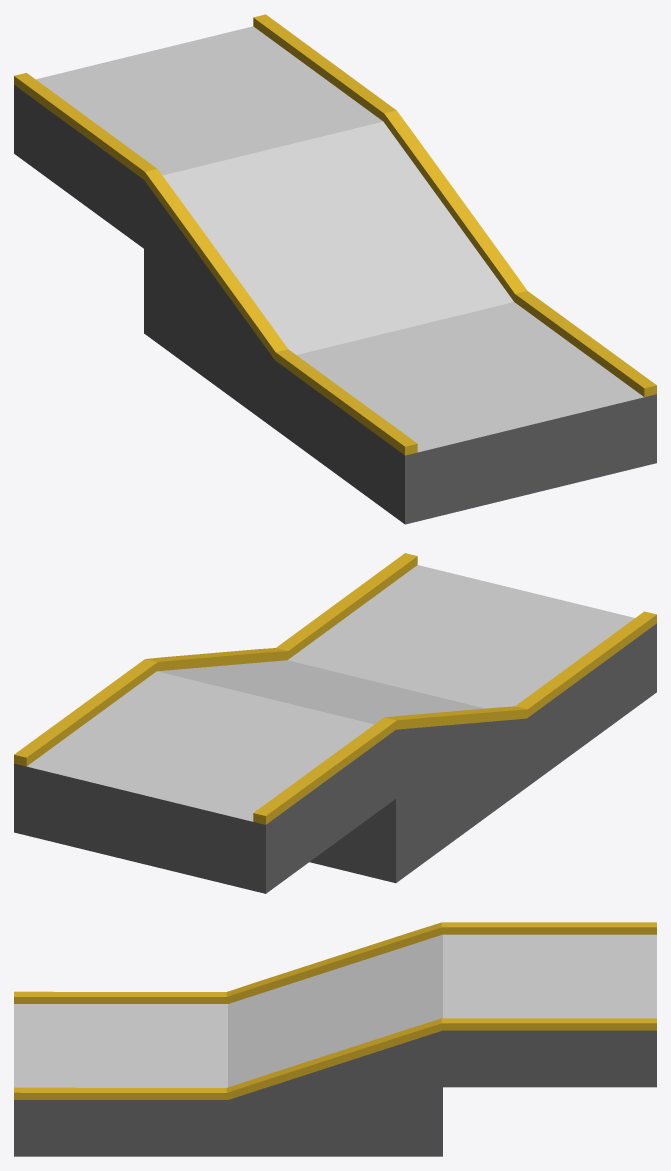
File: Platform_StraightUp.fbx
The picture shows the model from 3 angles, top to bottom: view 1: azimuth 30°, elevation 25°; view 2: azimuth 150°, elevation 25°; view 3: azimuth 270°, elevation 25°; orthographic projection. The views are drawn at different scales.
Parts seen in each view (by area): view 1: Platform_StraightUp; view 2: Platform_StraightUp; view 3: Platform_StraightUp.
Part boxes in pixels (x1,y1,x2,y2): Platform_StraightUp: (14, 14, 656, 524); Platform_StraightUp: (14, 553, 656, 893); Platform_StraightUp: (14, 922, 656, 1156).
Size of the model in its own units: 1192 by 735 by 3207.
